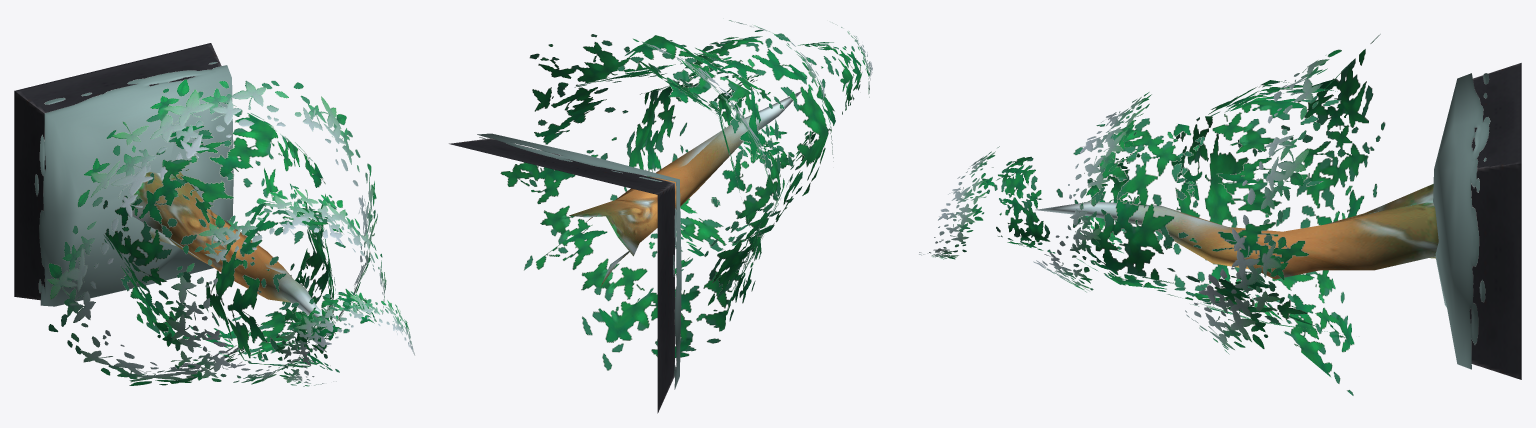
Rendered from tree winter.glb.
3 renders of one model, left to right at view 1: azimuth 30°, elevation 25°; view 2: azimuth 150°, elevation 25°; view 3: azimuth 270°, elevation 25°, orthographic. The views are drawn at different scales.
Parts seen in each view (by area): view 1: sky_islands_day.tree_winter-Mesh[2], sky_islands_day.tree_winter-Mesh[0], sky_islands_day.tree_winter-Mesh[1], sky_islands_day.tree_winter-Mesh[3]; view 2: sky_islands_day.tree_winter-Mesh[2], sky_islands_day.tree_winter-Mesh[1], sky_islands_day.tree_winter-Mesh[3], sky_islands_day.tree_winter-Mesh[0]; view 3: sky_islands_day.tree_winter-Mesh[2], sky_islands_day.tree_winter-Mesh[1], sky_islands_day.tree_winter-Mesh[3], sky_islands_day.tree_winter-Mesh[0].
Part boxes in pixels (x1,y1,x2,y2): sky_islands_day.tree_winter-Mesh[2]: [47, 79, 414, 386]; sky_islands_day.tree_winter-Mesh[0]: [34, 62, 233, 306]; sky_islands_day.tree_winter-Mesh[1]: [14, 43, 221, 300]; sky_islands_day.tree_winter-Mesh[3]: [130, 172, 335, 326]; sky_islands_day.tree_winter-Mesh[2]: [500, 20, 872, 370]; sky_islands_day.tree_winter-Mesh[1]: [449, 138, 674, 413]; sky_islands_day.tree_winter-Mesh[3]: [569, 91, 800, 288]; sky_islands_day.tree_winter-Mesh[0]: [477, 133, 681, 389]; sky_islands_day.tree_winter-Mesh[2]: [919, 34, 1385, 395]; sky_islands_day.tree_winter-Mesh[1]: [1469, 63, 1521, 379]; sky_islands_day.tree_winter-Mesh[3]: [1035, 184, 1438, 279]; sky_islands_day.tree_winter-Mesh[0]: [1433, 73, 1490, 369].
Size of the model in its own units: 3.26 by 3.6 by 5.19.
Materials: 4 (4 with a texture image).
